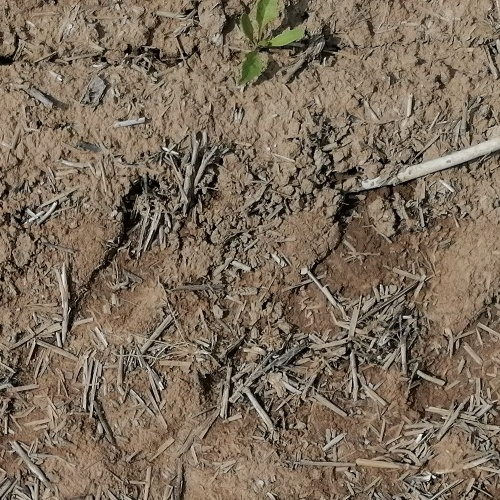beet: (238, 0, 306, 87)
